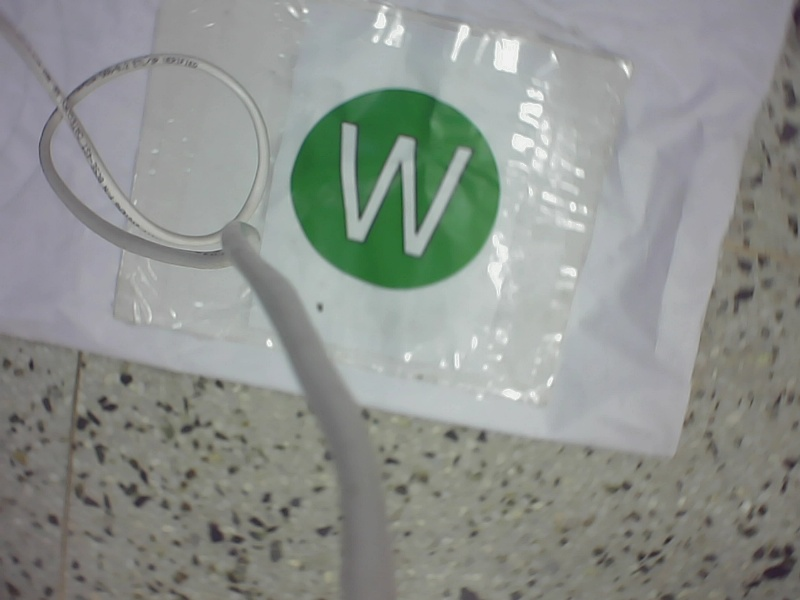areaB: (284, 82, 522, 296)
